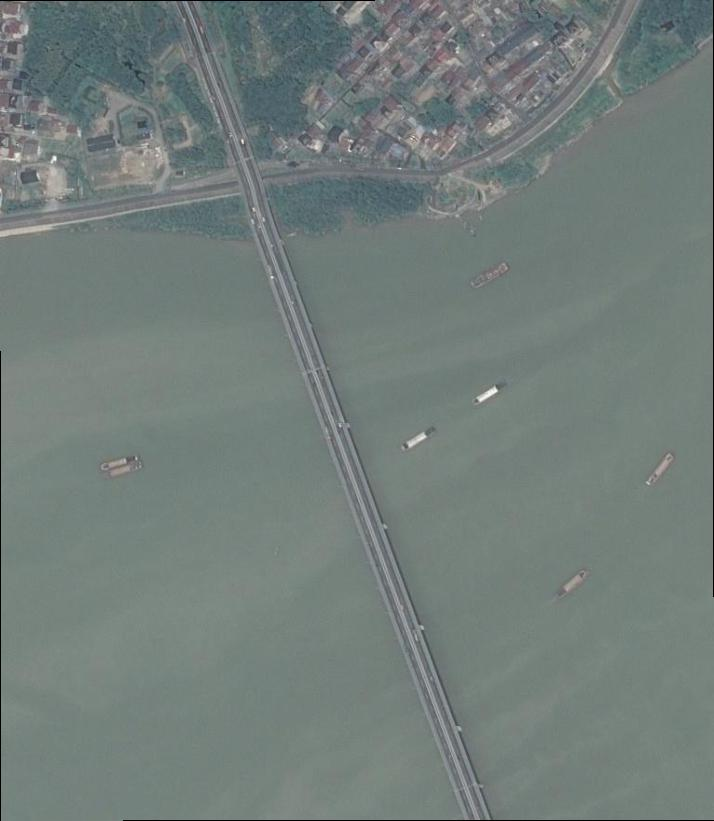ship: (470, 262, 511, 290), (554, 570, 590, 601), (472, 379, 509, 407), (646, 453, 675, 487), (402, 426, 437, 451), (101, 452, 141, 472), (108, 461, 145, 478)
